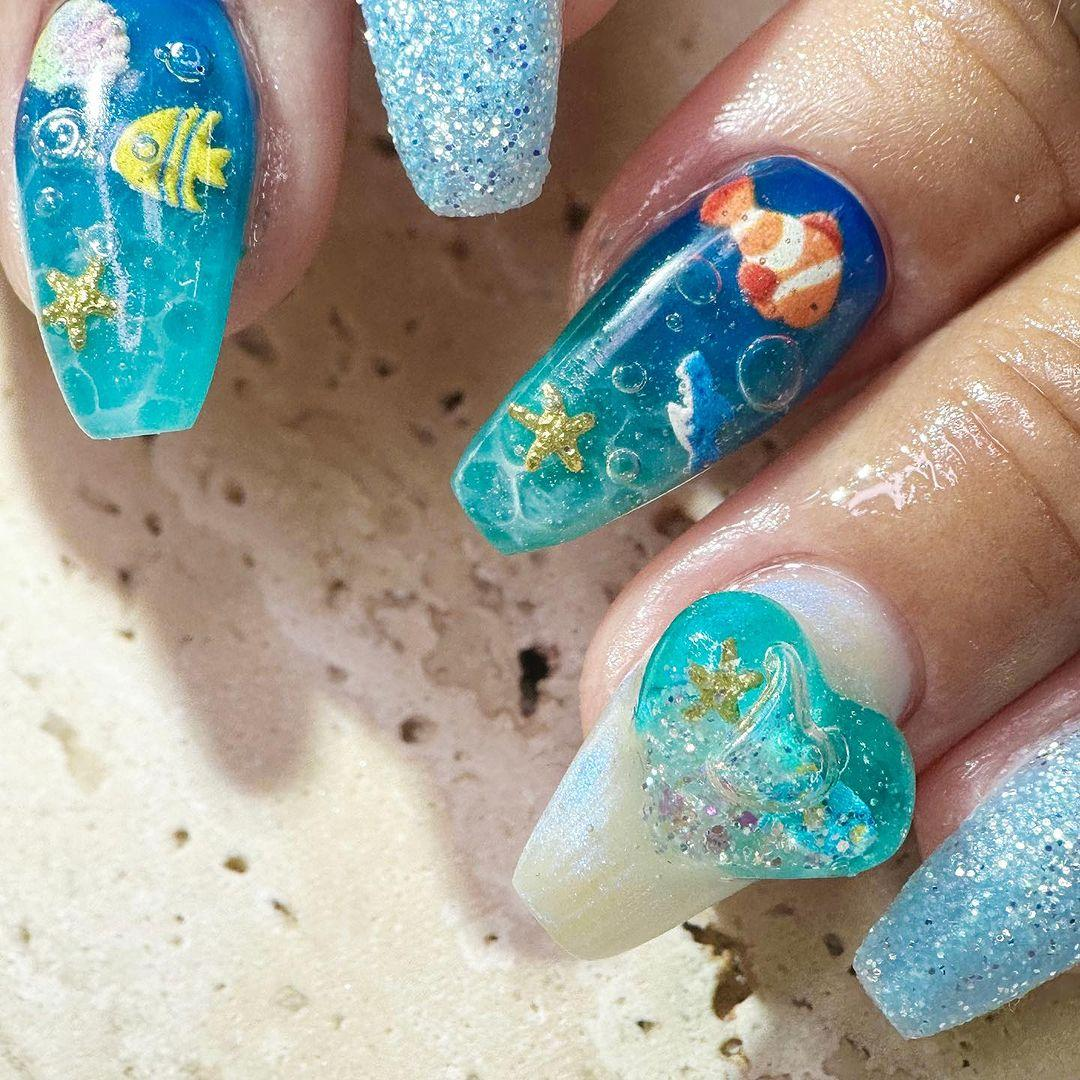nail: (449, 149, 891, 556), (511, 577, 920, 961), (9, 0, 259, 440), (849, 718, 1078, 1041), (355, 0, 564, 219)
